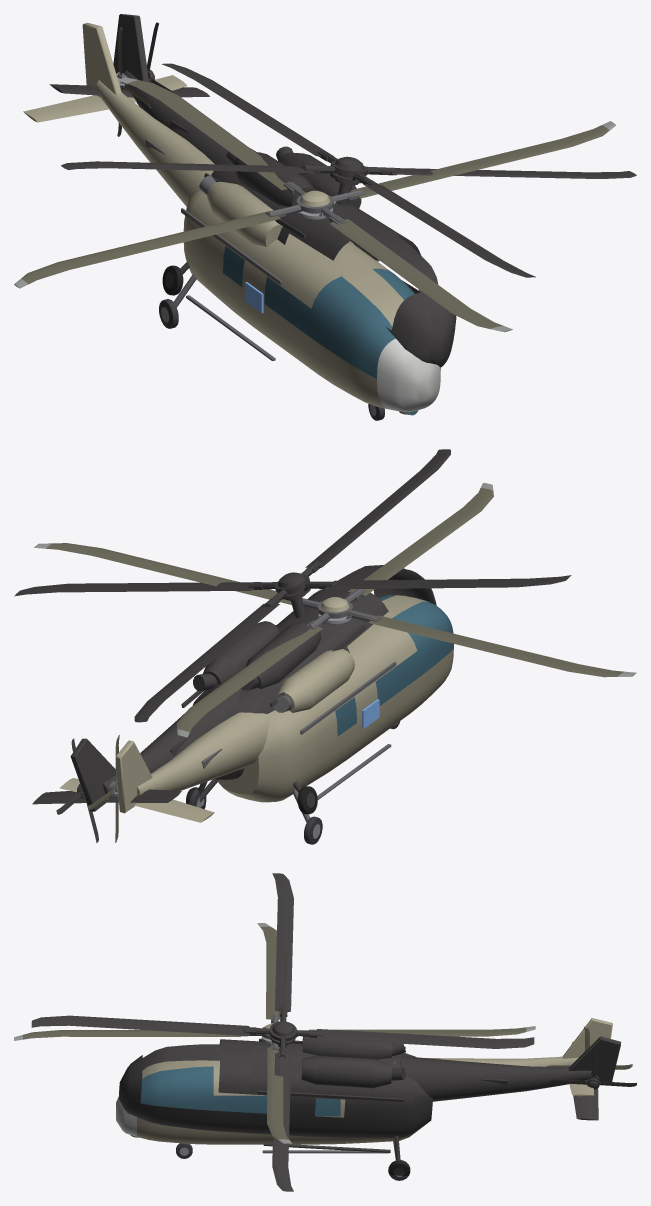
Rendered from scoutHelicopter__wildcat_mk1.glb.
3 renders of one model, top to bottom at view 1: azimuth 30°, elevation 25°; view 2: azimuth 150°, elevation 25°; view 3: azimuth 270°, elevation 25°, orthographic. The views are drawn at different scales.
Visible parts, largest first — view 1: Fuselage_Mesh, Wreck, Rotor_Main_Mesh, Engines_Mesh, Landing_Gear_Mesh; view 2: Fuselage_Mesh, Wreck, Rotor_Main_Mesh, Engines_Mesh, Landing_Gear_Mesh; view 3: Wreck, Fuselage_Mesh, Rotor_Main_Mesh.
Part boxes in pixels (left/top/right/bottom): Fuselage_Mesh: left=23, top=22, right=440, bottom=415; Wreck: left=49, top=14, right=636, bottom=367; Rotor_Main_Mesh: left=14, top=77, right=616, bottom=332; Engines_Mesh: left=199, top=175, right=289, bottom=246; Landing_Gear_Mesh: left=159, top=274, right=384, bottom=420; Fuselage_Mesh: left=59, top=595, right=453, bottom=822; Wreck: left=14, top=449, right=571, bottom=842; Rotor_Main_Mesh: left=34, top=483, right=636, bottom=737; Engines_Mesh: left=273, top=649, right=354, bottom=712; Landing_Gear_Mesh: left=188, top=721, right=400, bottom=844; Wreck: left=31, top=873, right=636, bottom=1191; Fuselage_Mesh: left=116, top=1018, right=612, bottom=1153; Rotor_Main_Mesh: left=14, top=923, right=535, bottom=1143.
Size of what is drawn, in the model's own units: 13.21 by 5.3 by 15.29.
